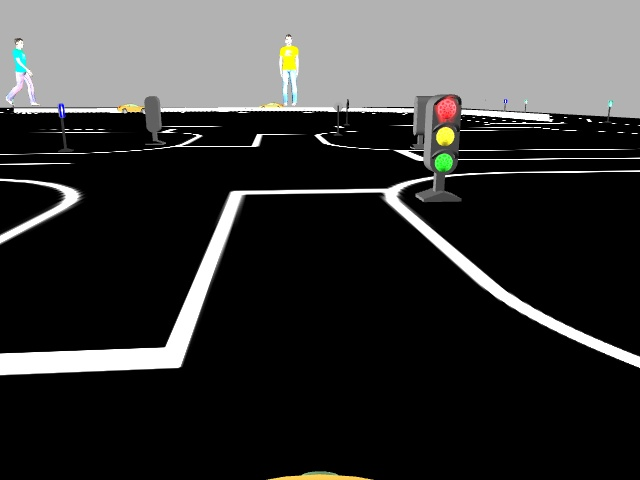TrafficLight: (424, 95, 462, 173)
